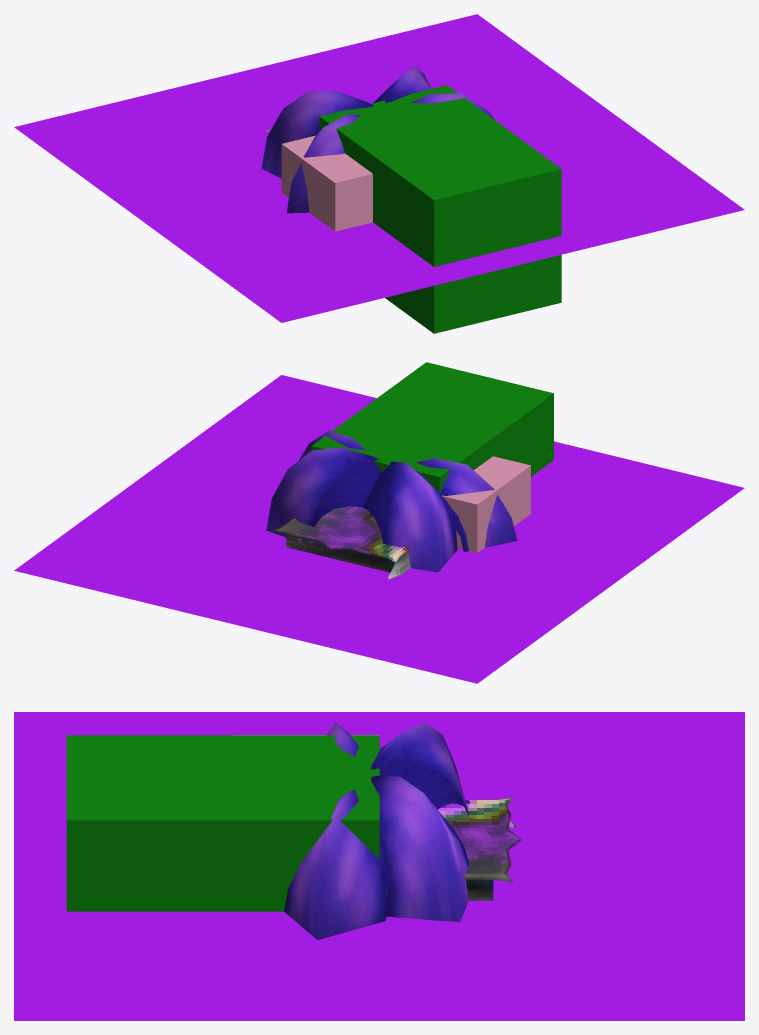
The picture shows the model from 3 angles, top to bottom: view 1: azimuth 30°, elevation 25°; view 2: azimuth 150°, elevation 25°; view 3: azimuth 270°, elevation 25°; orthographic projection. The views are drawn at different scales.
Visible parts, largest first — view 1: object0044_Plane, object0088_Box, object0091_Box, object0061_Plane03, object0075_Plane13, object0078_Plane14; view 2: object0044_Plane, object0088_Box, object0061_Plane03, object0078_Plane14, object0005_W629, object0091_Box, object0075_Plane13; view 3: object0044_Plane, object0088_Box, object0078_Plane14, object0081_Plane15, object0005_W629, object0061_Plane03, object0075_Plane13.
Boxes of the visible parts, left/top/right/bottom form: object0044_Plane: left=14, top=14, right=744, bottom=322; object0088_Box: left=319, top=85, right=561, bottom=333; object0091_Box: left=281, top=135, right=372, bottom=231; object0061_Plane03: left=261, top=91, right=374, bottom=178; object0075_Plane13: left=286, top=114, right=360, bottom=213; object0078_Plane14: left=373, top=66, right=431, bottom=103; object0044_Plane: left=14, top=375, right=744, bottom=683; object0088_Box: left=311, top=362, right=553, bottom=492; object0061_Plane03: left=363, top=461, right=457, bottom=572; object0078_Plane14: left=266, top=447, right=381, bottom=537; object0005_W629: left=270, top=506, right=410, bottom=579; object0091_Box: left=442, top=456, right=530, bottom=552; object0075_Plane13: left=416, top=458, right=517, bottom=551; object0044_Plane: left=14, top=712, right=744, bottom=1020; object0088_Box: left=66, top=735, right=379, bottom=911; object0078_Plane14: left=371, top=776, right=469, bottom=922; object0081_Plane15: left=284, top=790, right=390, bottom=939; object0005_W629: left=438, top=797, right=521, bottom=900; object0061_Plane03: left=371, top=722, right=469, bottom=816; object0075_Plane13: left=326, top=722, right=358, bottom=756.
Bounding box in the file's own units: 2.36 × 0.7812 × 2.36.
